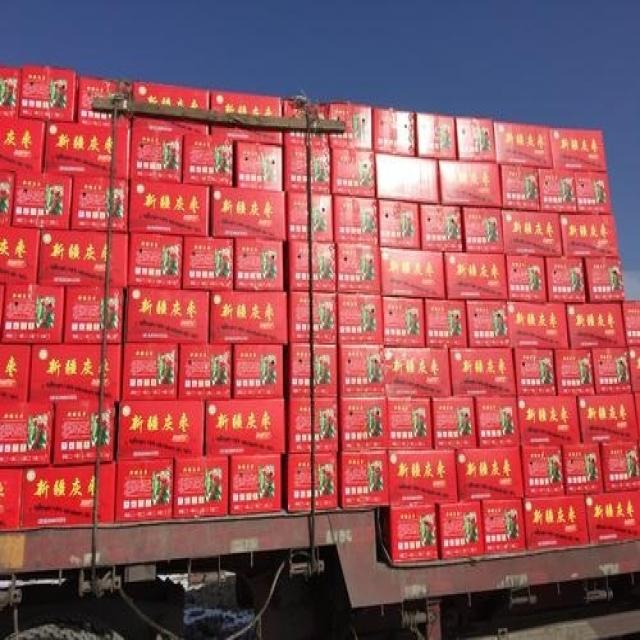box: (22, 463, 116, 529), (116, 399, 205, 463), (31, 345, 122, 403), (123, 288, 210, 346), (205, 399, 287, 459), (128, 181, 210, 237), (51, 401, 120, 464), (210, 290, 289, 345), (37, 229, 108, 290), (210, 89, 284, 147), (44, 119, 114, 179), (132, 82, 210, 135), (387, 451, 460, 507), (114, 459, 174, 527), (210, 188, 285, 241), (1, 285, 65, 345), (454, 447, 525, 500), (173, 456, 229, 521), (525, 495, 590, 551), (0, 399, 54, 466), (380, 503, 439, 563), (384, 345, 453, 396), (19, 63, 79, 121), (12, 172, 72, 229), (575, 391, 639, 444), (380, 246, 445, 297), (122, 345, 178, 404), (375, 154, 442, 203), (284, 452, 338, 512), (452, 350, 518, 399), (229, 454, 282, 515), (585, 488, 640, 546), (444, 253, 509, 302), (506, 300, 571, 348), (438, 160, 502, 208), (338, 451, 390, 510), (435, 498, 486, 558), (230, 343, 284, 399), (285, 398, 339, 454), (129, 126, 182, 183), (516, 398, 581, 444), (492, 118, 553, 167), (500, 210, 564, 256), (178, 345, 232, 399), (128, 234, 182, 288), (559, 212, 620, 259), (338, 394, 388, 451), (183, 133, 236, 186), (182, 236, 234, 290), (287, 343, 338, 398), (548, 125, 607, 171), (233, 239, 284, 292), (77, 77, 132, 126), (566, 304, 627, 348), (288, 292, 338, 345), (387, 394, 433, 451), (287, 241, 338, 292), (338, 343, 385, 398), (61, 288, 105, 346), (0, 118, 46, 172), (234, 142, 284, 191), (431, 396, 479, 447), (424, 297, 470, 350), (522, 444, 567, 498), (284, 193, 334, 241), (69, 176, 111, 232), (375, 198, 421, 249), (381, 294, 426, 346), (465, 300, 511, 350), (330, 147, 375, 198), (339, 294, 384, 345), (481, 500, 526, 551), (475, 398, 521, 447), (371, 104, 415, 155), (552, 348, 596, 398), (337, 242, 380, 292), (333, 198, 379, 244), (419, 203, 463, 251), (582, 256, 626, 304), (563, 444, 604, 495), (591, 346, 632, 396), (545, 258, 589, 304), (515, 350, 556, 399), (329, 102, 372, 148), (461, 207, 503, 254), (415, 114, 457, 160), (506, 256, 548, 302), (600, 442, 640, 490), (500, 166, 541, 212), (0, 464, 26, 534), (456, 116, 495, 162), (0, 343, 32, 399), (539, 167, 577, 213), (575, 171, 612, 213), (111, 114, 132, 179), (102, 288, 125, 346), (284, 145, 310, 193), (108, 230, 128, 288), (283, 101, 308, 145), (108, 177, 128, 230), (310, 147, 332, 195), (308, 101, 330, 147), (622, 300, 640, 346), (0, 172, 15, 227), (628, 346, 640, 391), (0, 283, 5, 345), (634, 391, 640, 442)
